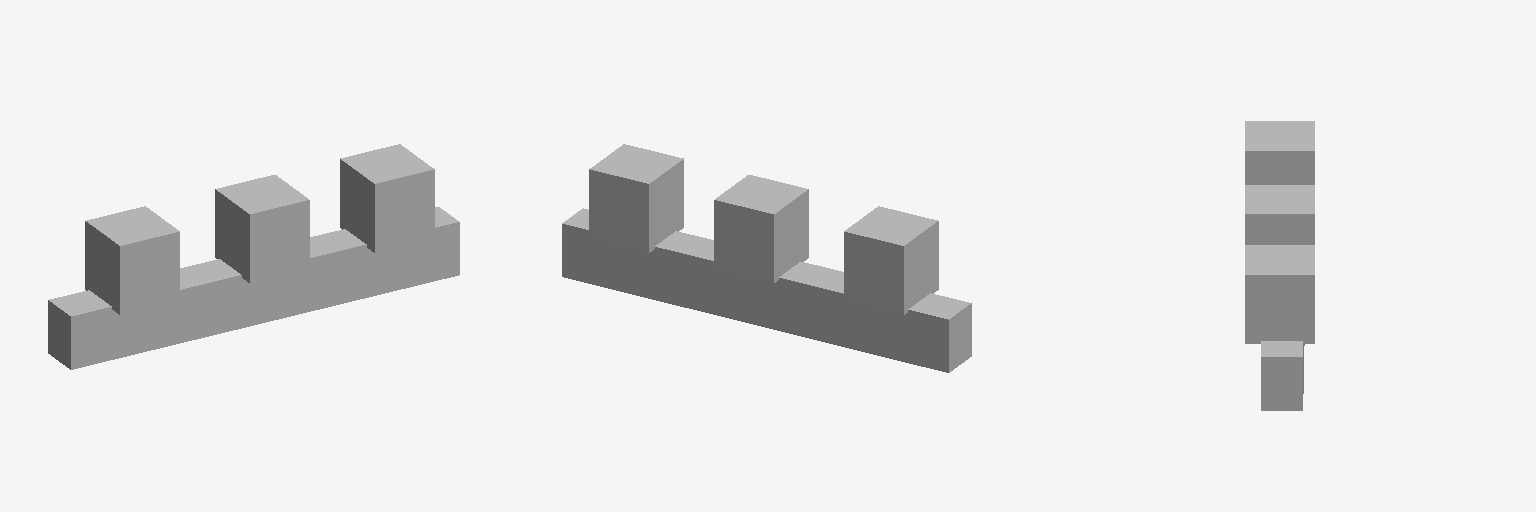
Rendered from Platform8.obj.
3 views of the same model, side by side, from view 1: azimuth 30°, elevation 25°; view 2: azimuth 150°, elevation 25°; view 3: azimuth 270°, elevation 25° (orthographic).
Visible parts, largest first — view 1: pCube20; view 2: pCube20; view 3: pCube20.
Boxes of the visible parts, x1,y1,x2,y2 form: pCube20: [48, 144, 459, 369]; pCube20: [562, 144, 971, 372]; pCube20: [1245, 121, 1314, 410].
Bounding box in the file's own units: 9.85 × 2.9 × 1.52.